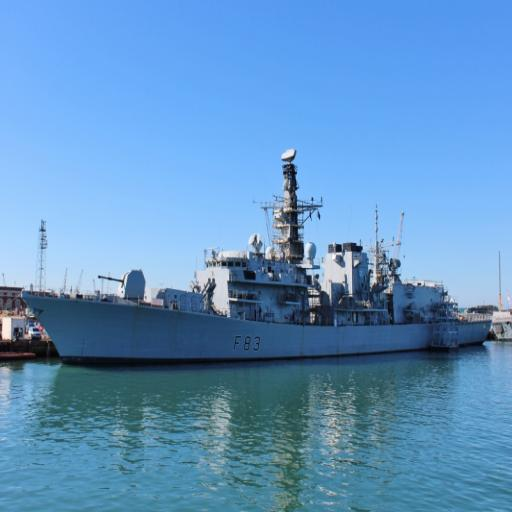Fragata: (21, 115, 496, 370)
